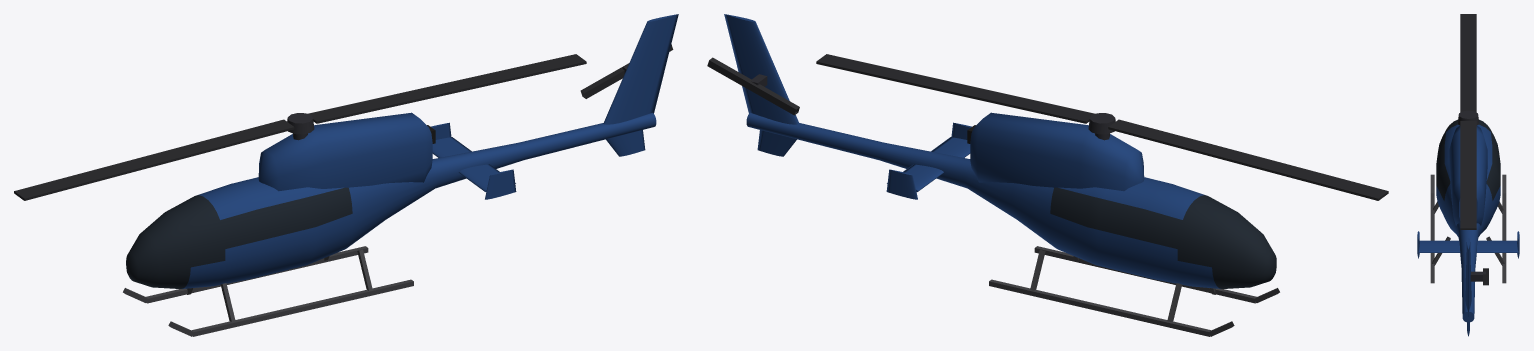
3 views of the same model, side by side, from view 1: azimuth 30°, elevation 25°; view 2: azimuth 150°, elevation 25°; view 3: azimuth 270°, elevation 25° (orthographic). The views are drawn at different scales.
Parts seen in each view (by area): view 1: b06; view 2: b06; view 3: b06.
Part boxes in pixels (box(x1,y1,x2,y2)): b06: box(14, 14, 678, 336); b06: box(707, 14, 1388, 336); b06: box(1417, 14, 1519, 336).
Size of the model in its own units: 11.99 by 3.17 by 2.06.
